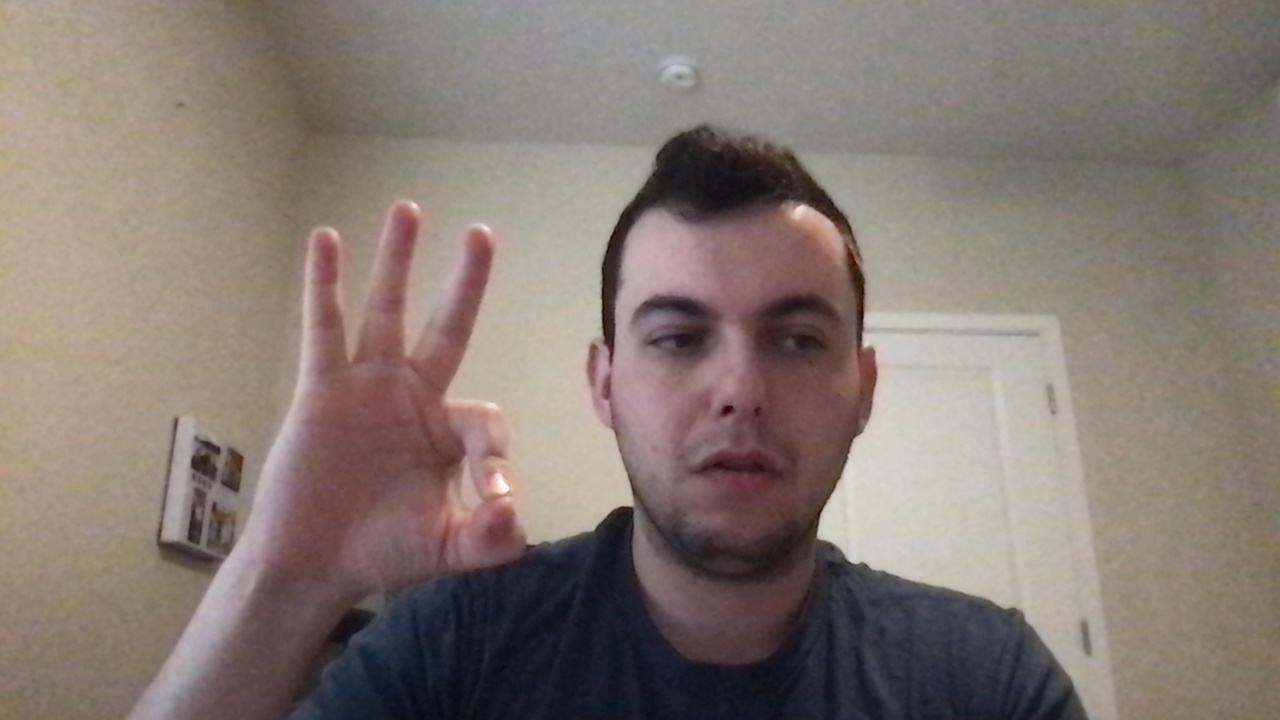f: (227, 188, 565, 662)
